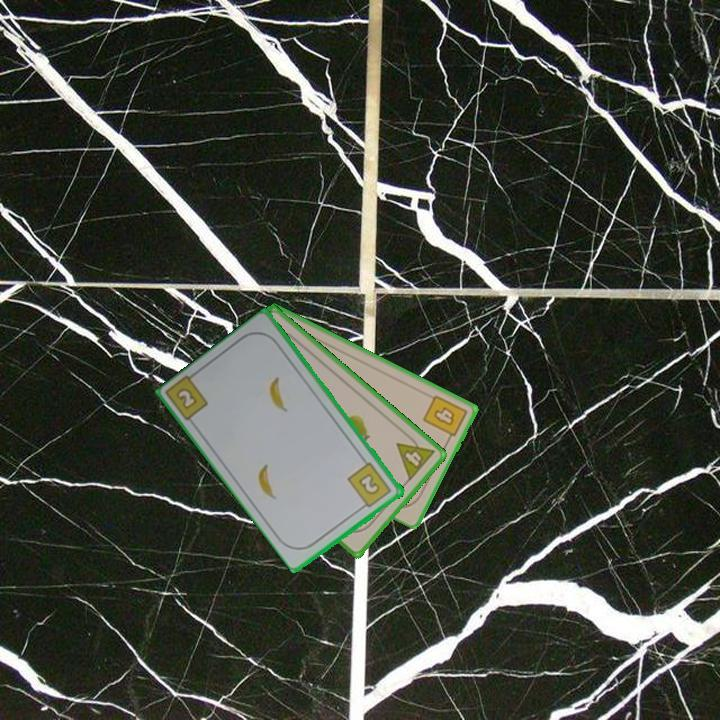2b: (344, 459, 395, 512), (175, 386, 198, 410)
4b: (419, 391, 470, 445)
4p: (393, 429, 438, 484)
